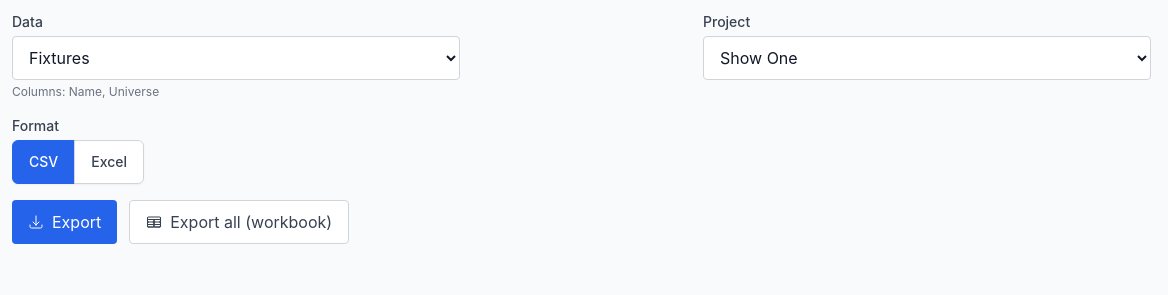
Scenario: DataExportPanel › exports as Excel when the format toggle is switched
The width and height of the screenshot is (1168, 295).
Check: the dropdown labelled "Data" is shown, box [12,36,460,80]
Click the radio button labelled "Excel".
click(109, 162)  # box [74,140,144,184]
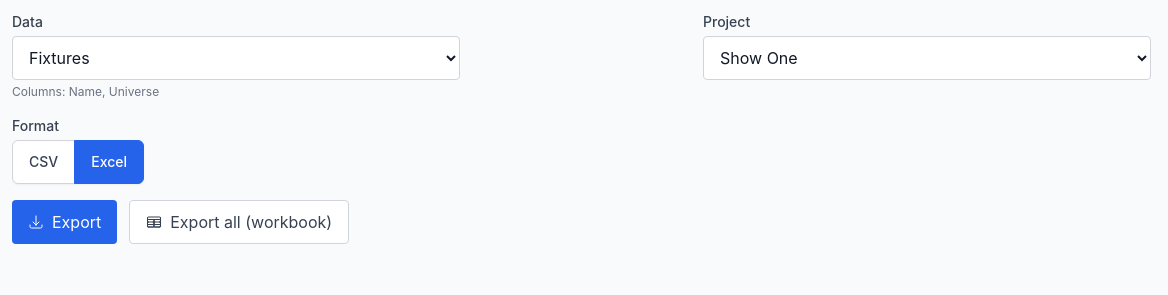
Check: the radio button labelled "Excel" is checked, box [74,140,144,184]
Click the button "Export".
click(65, 222)  # box [12,200,117,244]
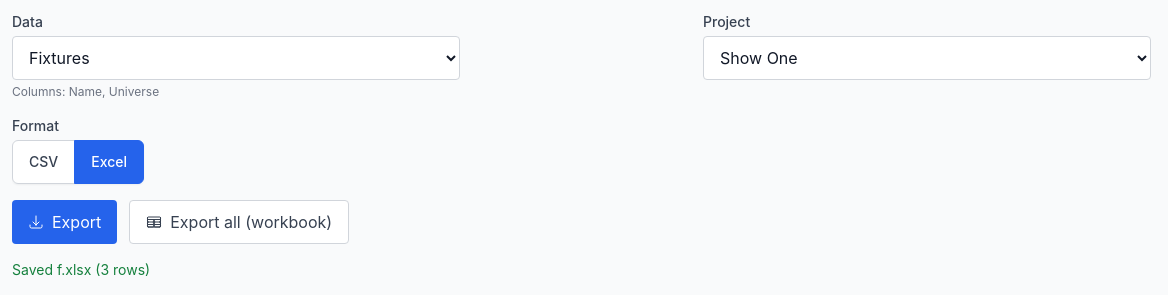
Check: the text with test id "data-export-result" reads "Saved f.xlsx (3 rows)", box [12,261,150,278]
